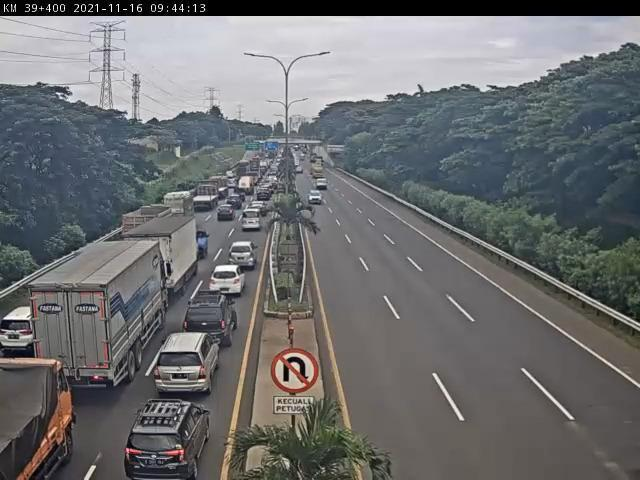car: (115, 402, 216, 480), (144, 334, 219, 393), (173, 292, 238, 356), (2, 302, 38, 356), (213, 266, 246, 298), (230, 240, 265, 270), (240, 209, 263, 235), (308, 187, 328, 209), (218, 203, 237, 221), (317, 178, 331, 190)
truck: (31, 238, 161, 386), (1, 352, 77, 480), (134, 216, 200, 292), (165, 190, 197, 222), (196, 182, 223, 213), (211, 178, 231, 198)
